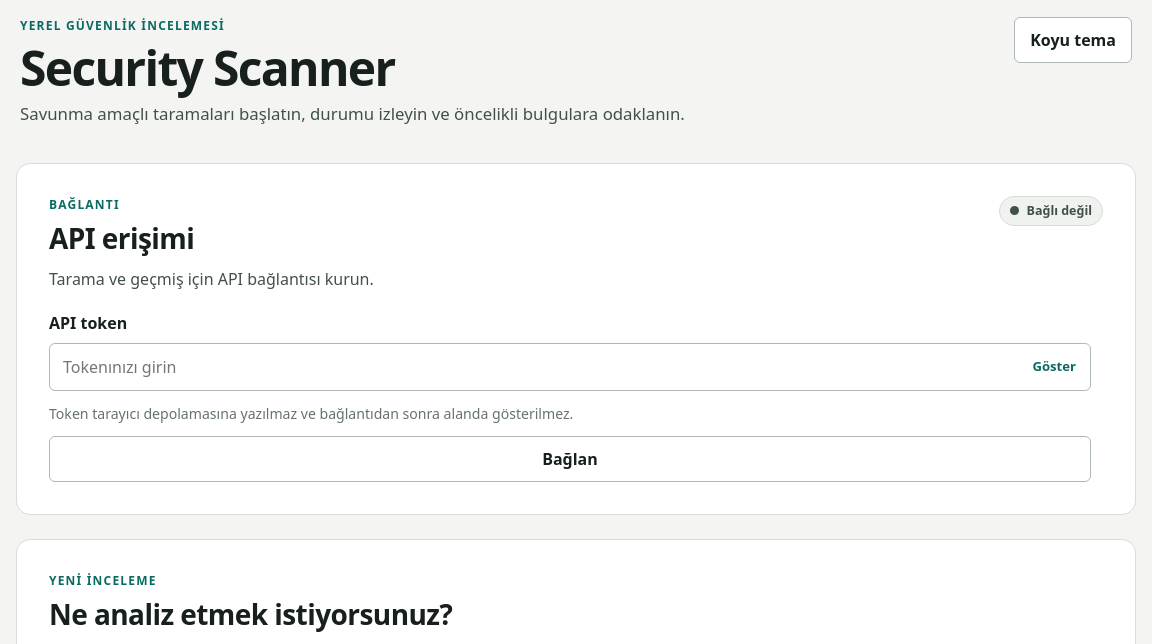
Test: ScannerPage › iptal edilen taramayı sonuç veya hata yerine iptal durumunda gösterir
The width and height of the screenshot is (1152, 644).
In the field labelled "API token Göster": coordinates (570, 367) [49,343,1091,391], type "session-token"
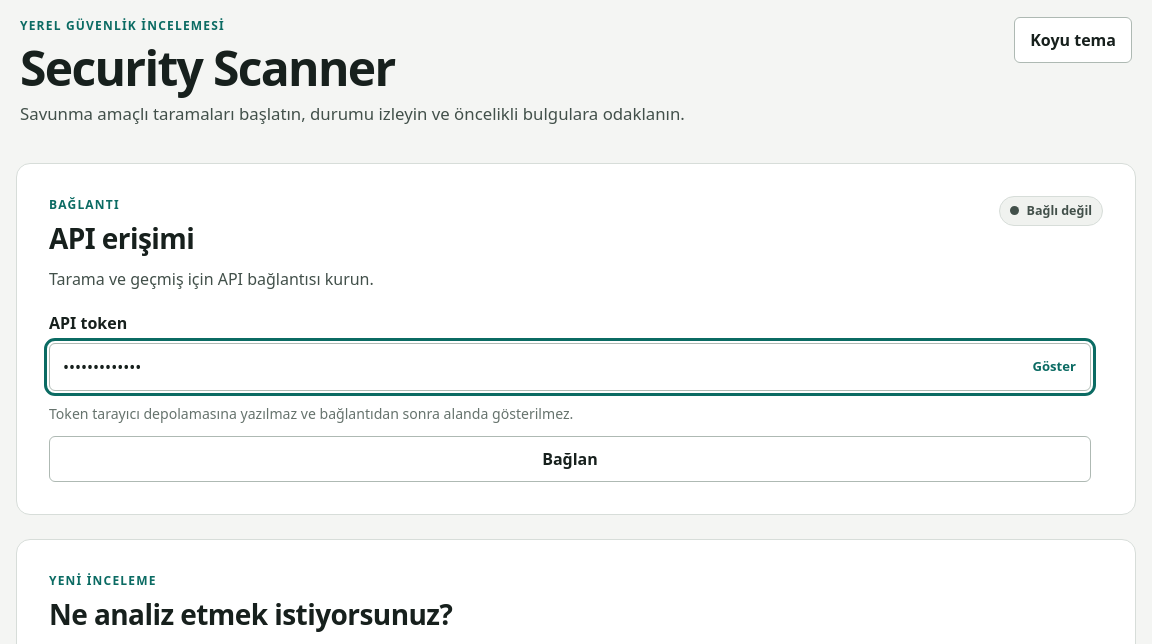
Click the button "Bağlan": coordinates (570, 459) [49,436,1091,482]
(page scrolled)
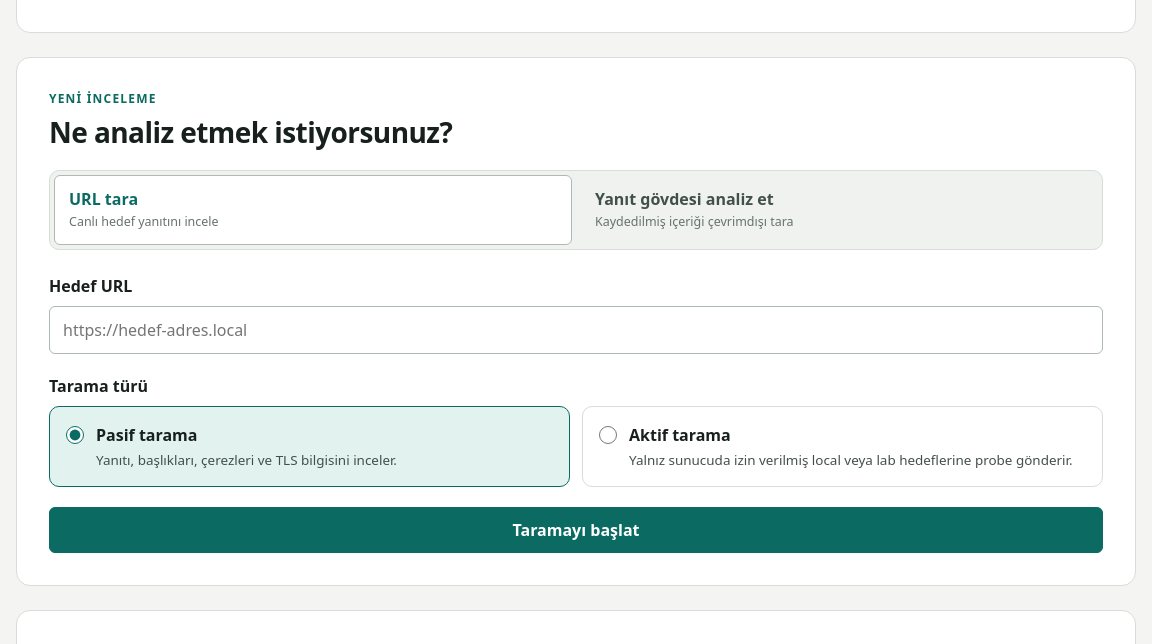
In the field labelled "Hedef URL": coordinates (576, 330) [49,306,1103,354], type "https://scan.example.test"
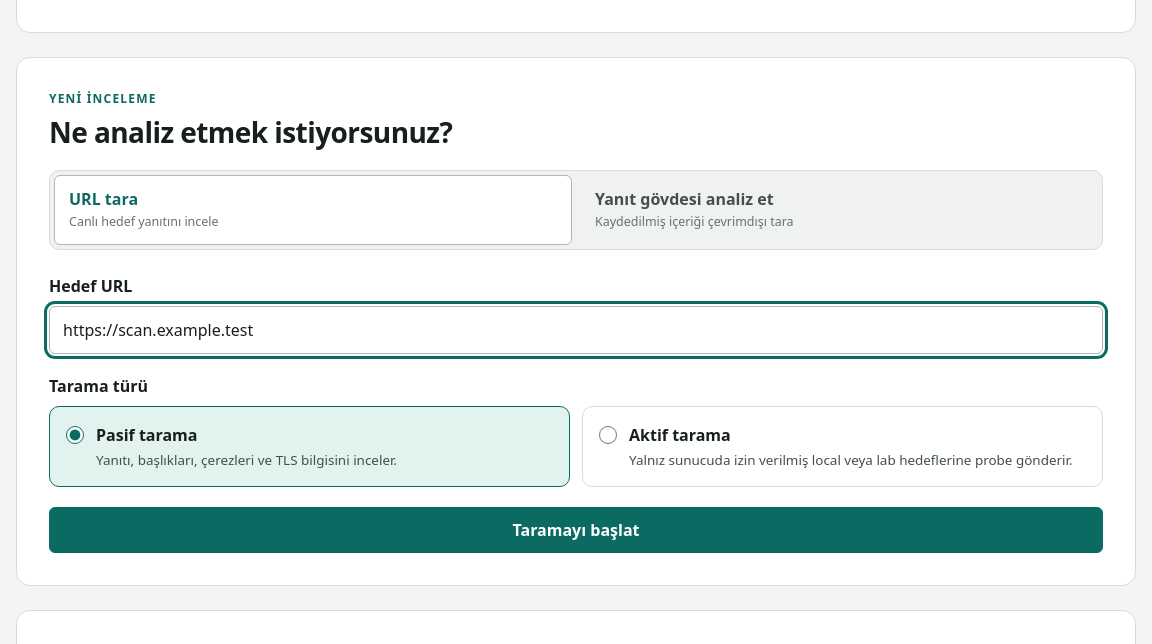
Click the button "Taramayı başlat": coordinates (576, 530) [49,507,1103,553]
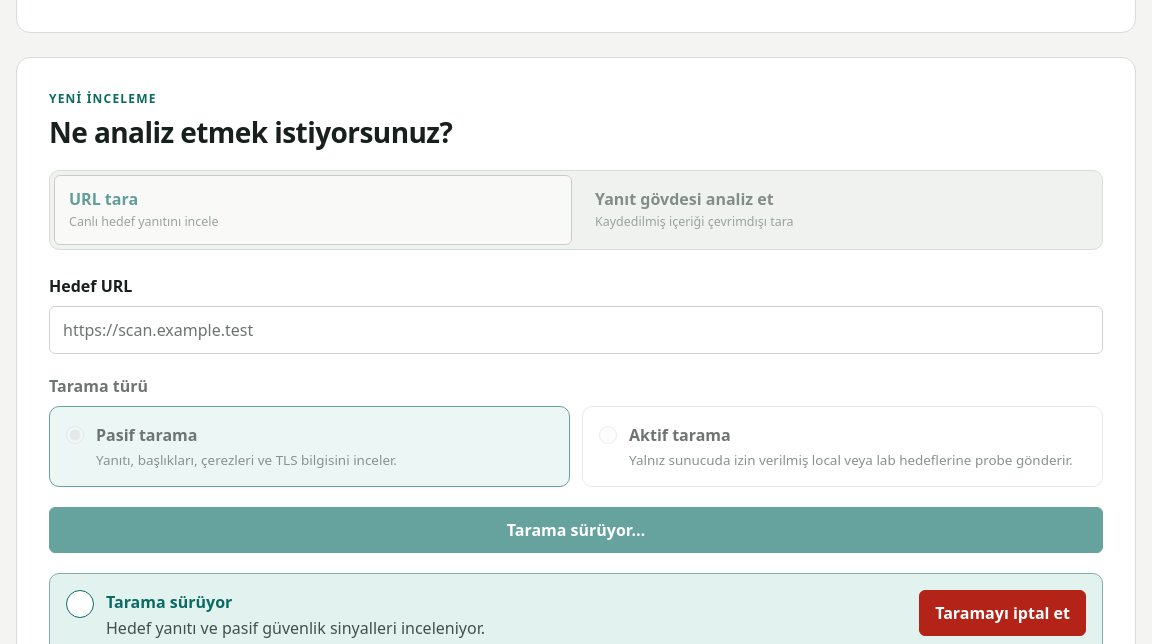
Click the button "Taramayı iptal et": coordinates (1003, 613) [919,590,1086,636]
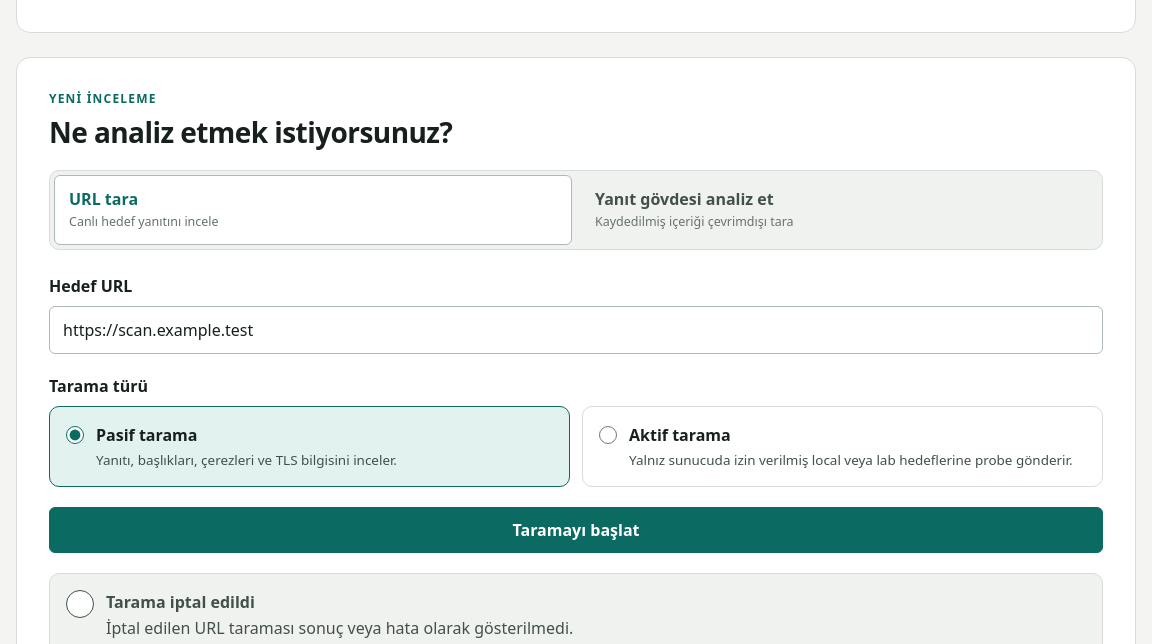
expect the text "Tarama iptal edildi" is shown: met, box [106,591,255,613]
expect the text "Tarama iptal edildi" shows "İptal edilen URL taraması sonuç veya hata olarak gösterilmedi.": met, box [106,617,573,639]
